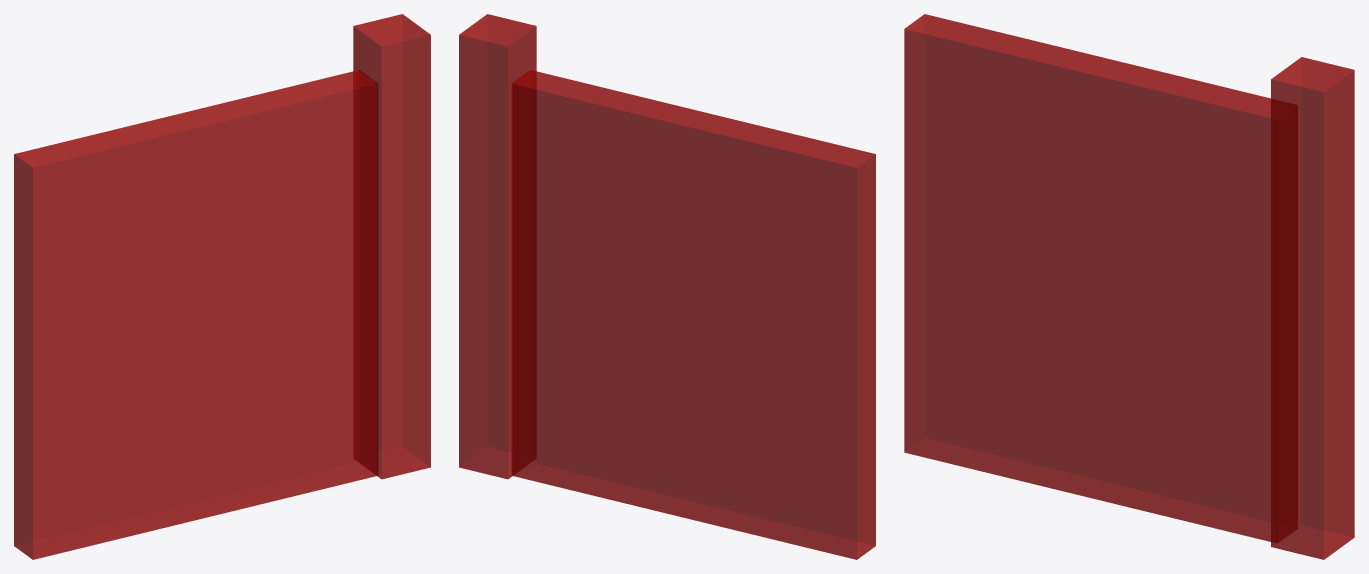
File: SM_Prop_Meadow_Fence_02_Collision.fbx
The picture shows the model from 3 angles, left to right: view 1: azimuth 30°, elevation 25°; view 2: azimuth 150°, elevation 25°; view 3: azimuth 330°, elevation 25°; orthographic projection. The views are drawn at different scales.
Visible parts, largest first — view 1: SM_Prop_Meadow_Fence_02_Collision; view 2: SM_Prop_Meadow_Fence_02_Collision; view 3: SM_Prop_Meadow_Fence_02_Collision.
Part boxes in pixels (box(x1,y1,x2,y2)): SM_Prop_Meadow_Fence_02_Collision: box(14, 14, 430, 559); SM_Prop_Meadow_Fence_02_Collision: box(459, 14, 875, 559); SM_Prop_Meadow_Fence_02_Collision: box(904, 14, 1354, 559).
Bounding box in the file's own units: 136 × 143 × 16.97.
